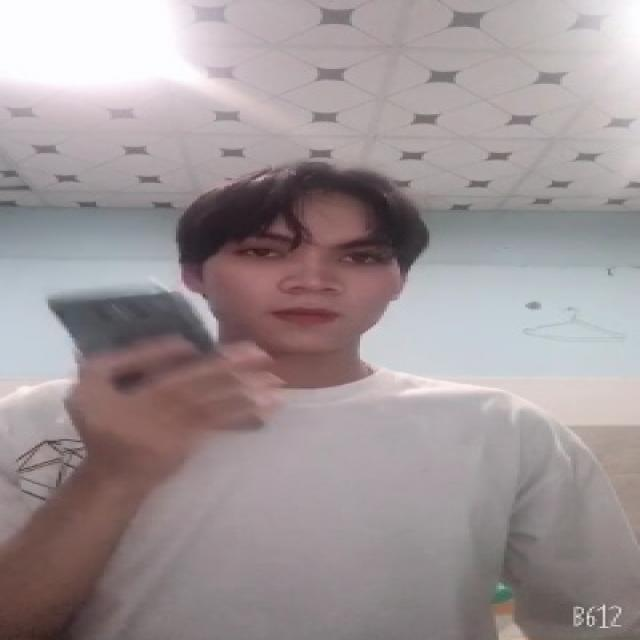Phone: (48, 285, 270, 440)
